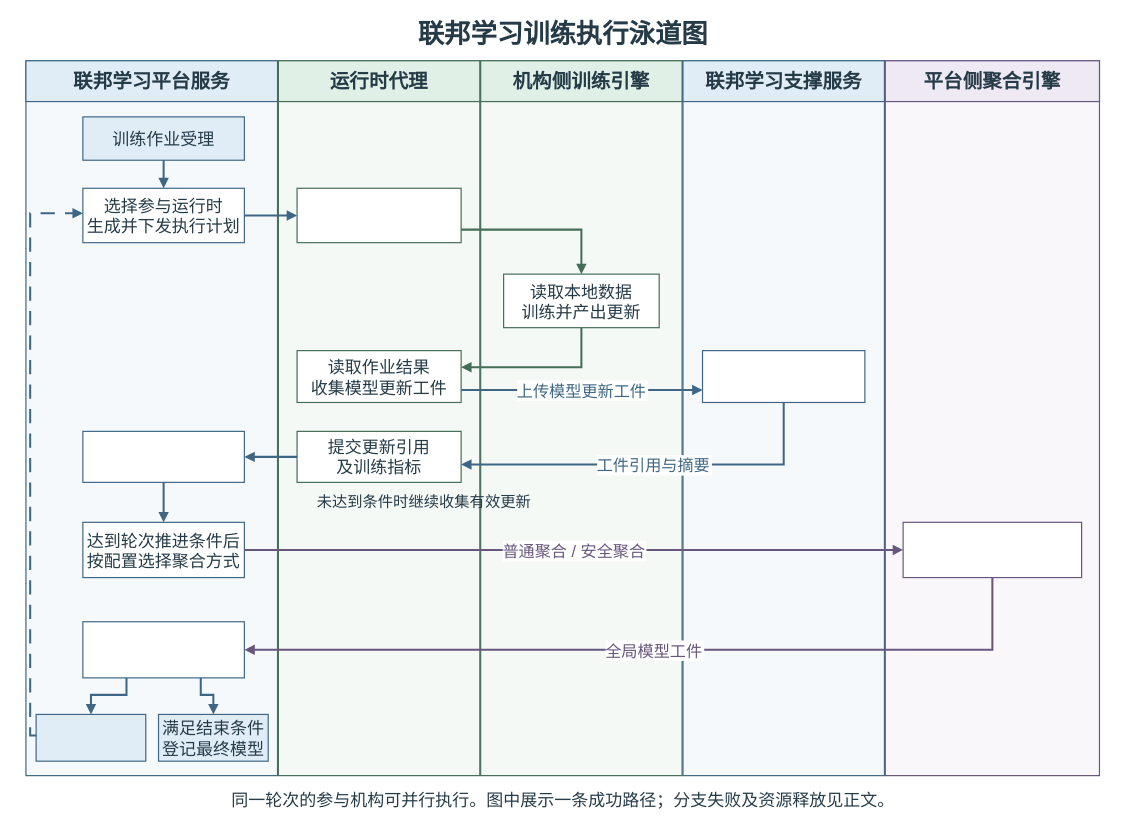
This 1125x828 diagram has some shape labels left out. Here are the shapes that lost their labels. From the top down, the box of each, then its label:
(296, 187, 461, 243): 校验计划与本地数据 接受后调度训练作业
(702, 350, 865, 403): 保存更新工件 返回引用与摘要
(82, 430, 245, 483): 校验并验收模型更新
(902, 521, 1082, 578): 执行聚合作业 生成全局模型工件
(82, 621, 245, 678): 评估全局模型 判断是否继续训练
(35, 713, 146, 761): 继续训练 进入下一轮
